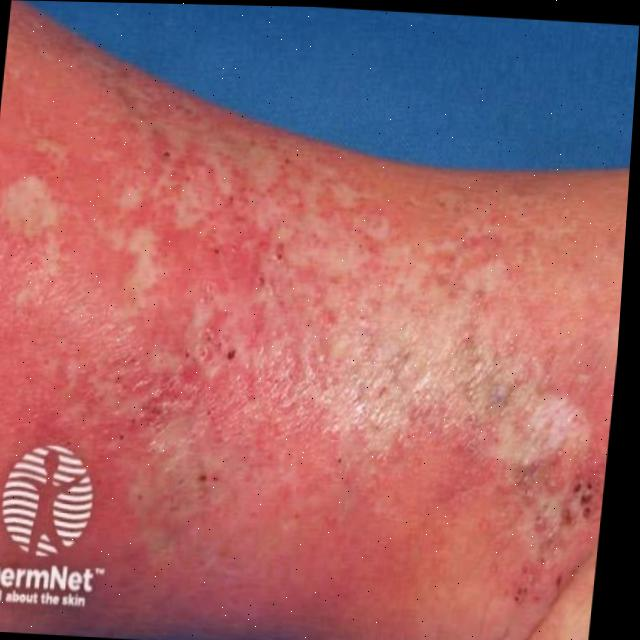Eczema: (0, 117, 632, 549)
